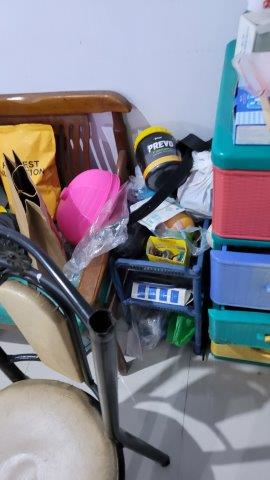plastik: (64, 188, 130, 282)
